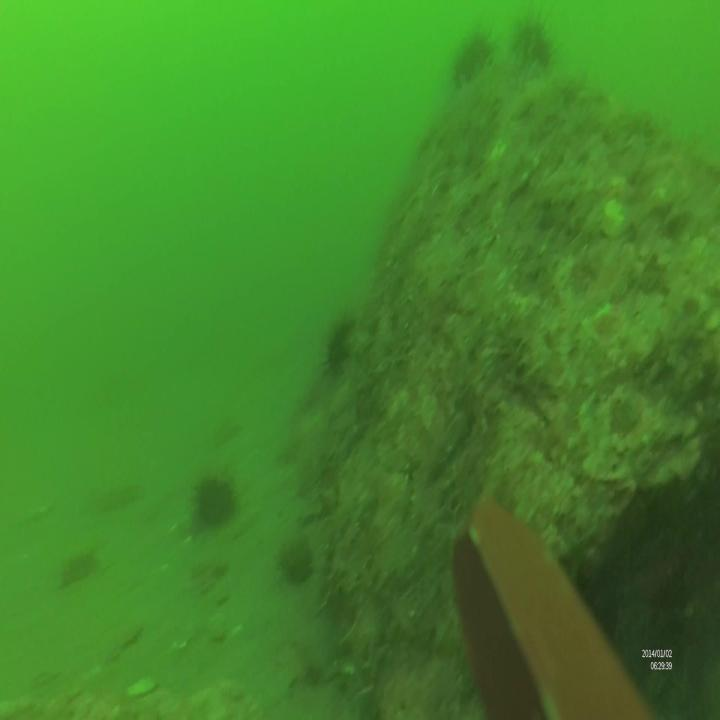echinus: (510, 19, 561, 82), (188, 473, 238, 536), (452, 18, 490, 86), (321, 316, 358, 376)
